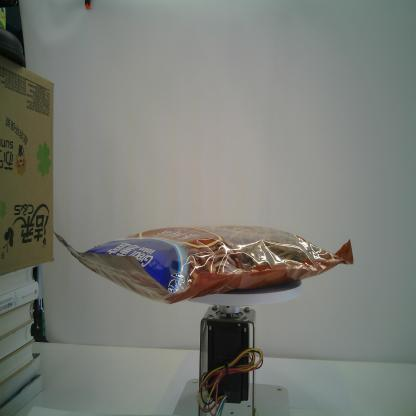Dried Food: (52, 224, 354, 305)
